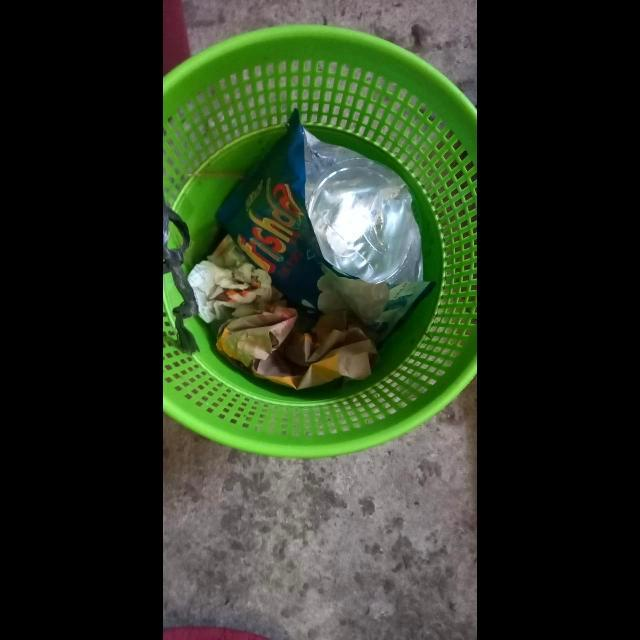food_wrapper: (216, 109, 429, 349)
paper: (217, 306, 378, 390), (188, 235, 283, 324)
